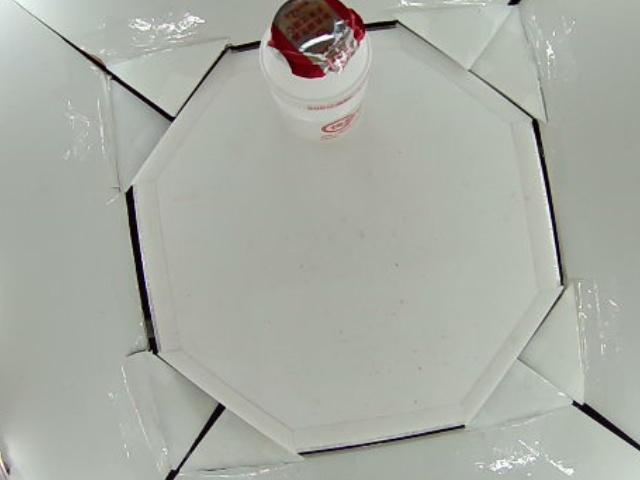Bottle: (256, 1, 373, 146)
